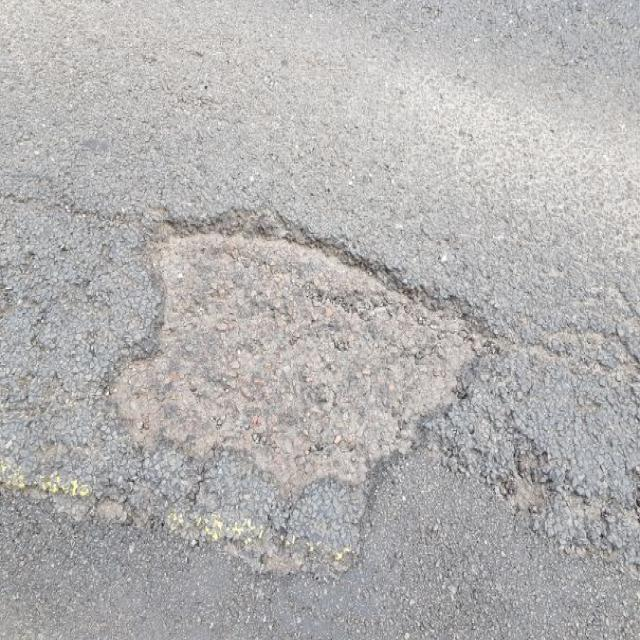pothole: (95, 200, 494, 498)
